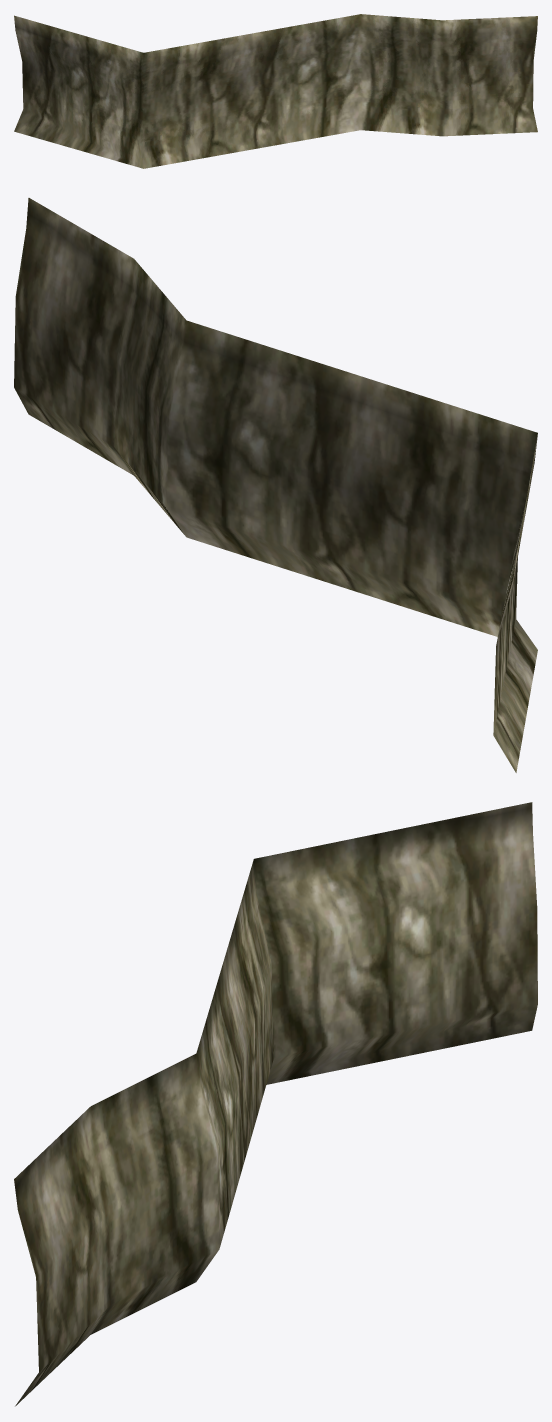
File: CB_NEWPLAYSURFACE_CB_PLAYSURFACE118.fbx
3 renders of one model, top to bottom at view 1: azimuth 30°, elevation 25°; view 2: azimuth 150°, elevation 25°; view 3: azimuth 270°, elevation 25°, orthographic. The views are drawn at different scales.
Visible parts, largest first — view 1: CB_NEWPLAYSURFACE_CB_PLAYSURFACE118; view 2: CB_NEWPLAYSURFACE_CB_PLAYSURFACE118; view 3: CB_NEWPLAYSURFACE_CB_PLAYSURFACE118.
Part boxes in pixels (x1,y1,x2,y2): CB_NEWPLAYSURFACE_CB_PLAYSURFACE118: (14,14,537,168); CB_NEWPLAYSURFACE_CB_PLAYSURFACE118: (14,198,537,772); CB_NEWPLAYSURFACE_CB_PLAYSURFACE118: (14,802,537,1406).
Bounding box in the file's own units: 142029 × 40000 × 83092.
Materials: 1 (1 with a texture image).
